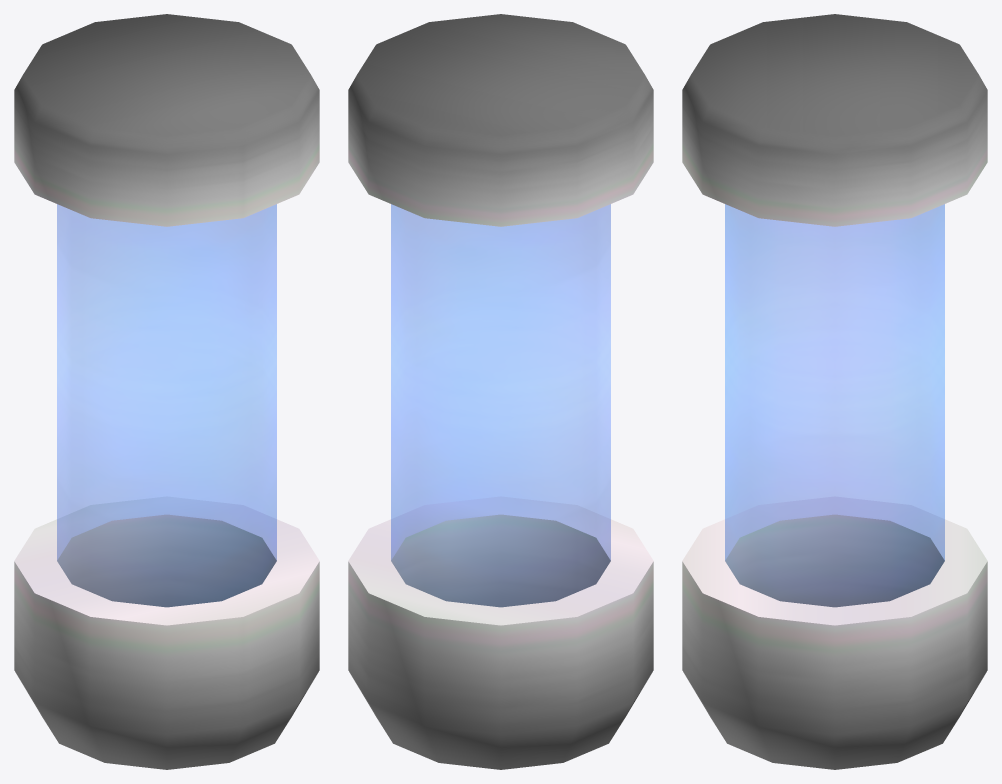
The model's file is EggIncubatorEmptySilver.glb.
3 views of the same model, side by side, from view 1: azimuth 30°, elevation 25°; view 2: azimuth 150°, elevation 25°; view 3: azimuth 270°, elevation 25° (orthographic).
Visible parts, largest first — view 1: EggIncubatorEmptySilver; view 2: EggIncubatorEmptySilver; view 3: EggIncubatorEmptySilver.
Part boxes in pixels (x1,y1,x2,y2): EggIncubatorEmptySilver: (14,14,319,769); EggIncubatorEmptySilver: (348,14,653,769); EggIncubatorEmptySilver: (682,14,987,769).
Size of the model in its own units: 1.77 by 4.11 by 1.77.
Materials: 2 (2 with a texture image).
